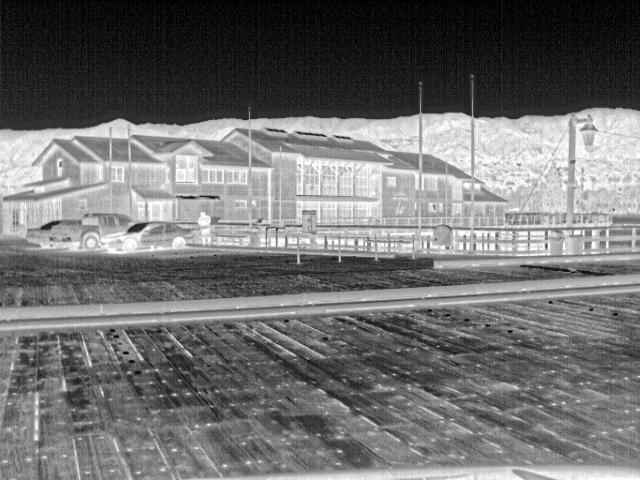car: (47, 211, 135, 255), (102, 220, 199, 255), (24, 218, 85, 250)
person: (198, 210, 214, 249)
